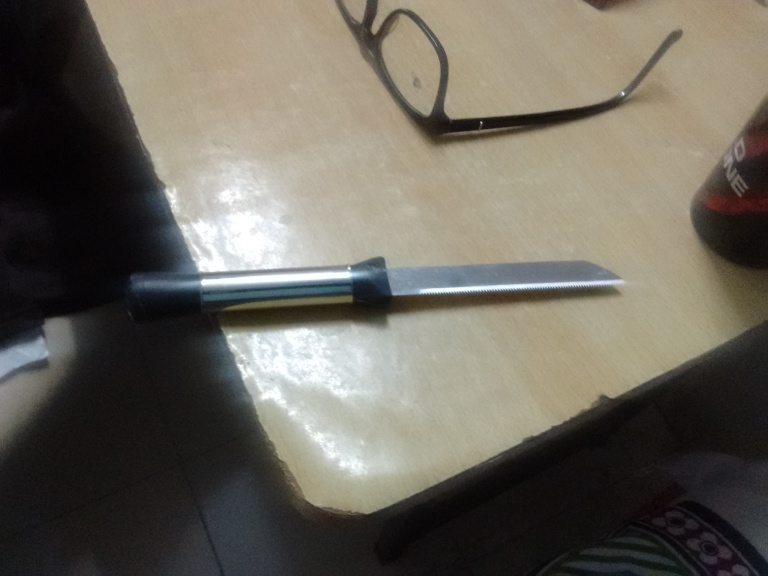knife: (123, 256, 623, 325)
